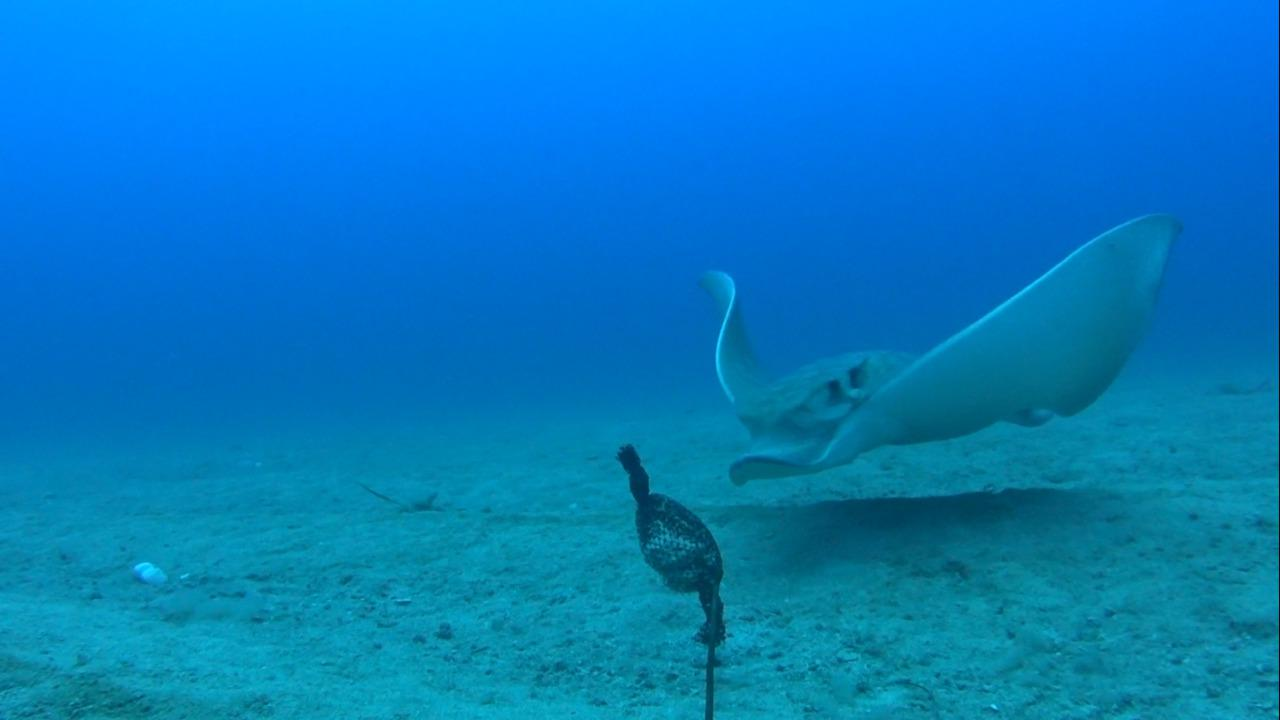myliobatis: (682, 206, 1199, 492)
